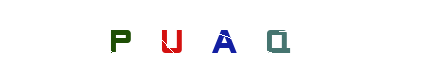A: (175, 0, 255, 80)
P: (79, 0, 159, 80)
Q: (212, 0, 292, 80)
U: (132, 0, 212, 80)
